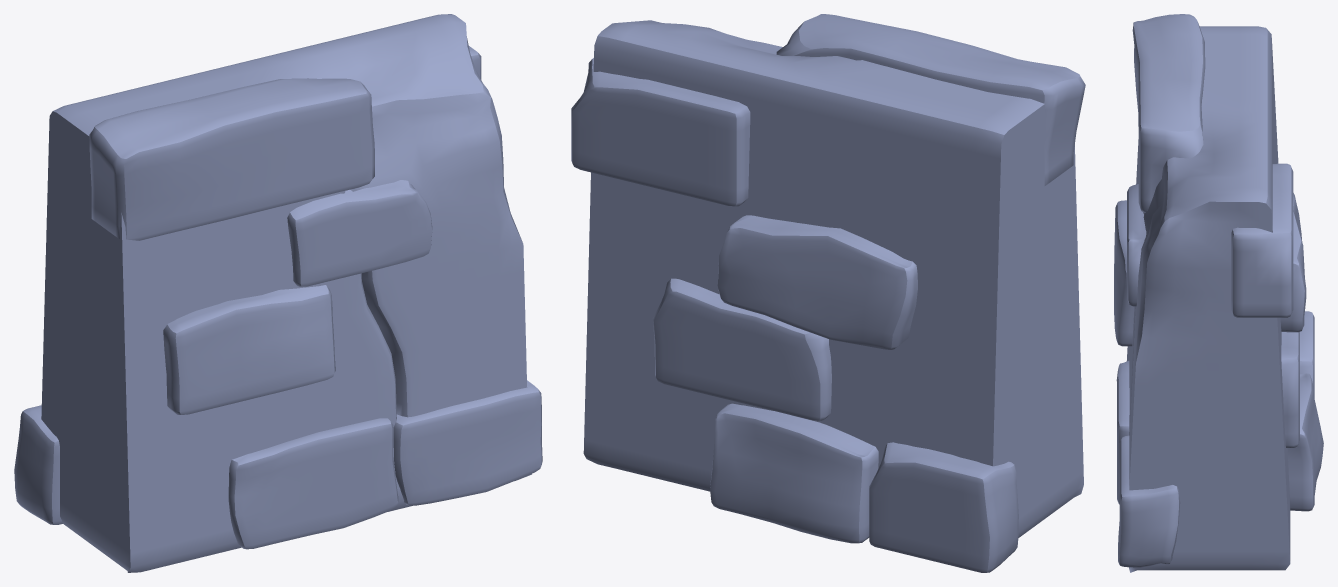
File: Wall_S_2.fbx
The picture shows the model from 3 angles, left to right: view 1: azimuth 30°, elevation 25°; view 2: azimuth 150°, elevation 25°; view 3: azimuth 270°, elevation 25°; orthographic projection. The views are drawn at different scales.
Parts seen in each view (by area): view 1: wall_S_B; view 2: wall_S_B; view 3: wall_S_B.
Boxes of the visible parts, <box> form: wall_S_B: <box>14,14,542,572</box>; wall_S_B: <box>571,14,1085,572</box>; wall_S_B: <box>1114,14,1323,572</box>.
Bounding box in the file's own units: 5.42 × 5.17 × 2.52.
